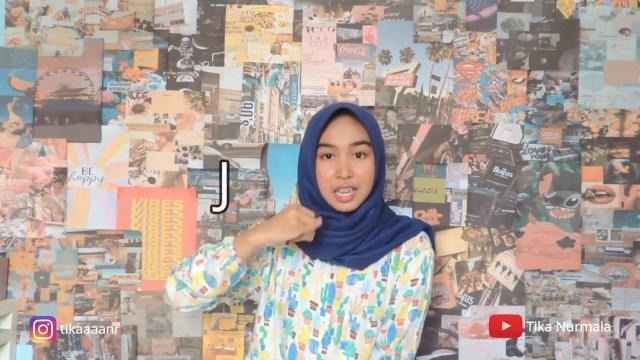J: (253, 204, 325, 248)
